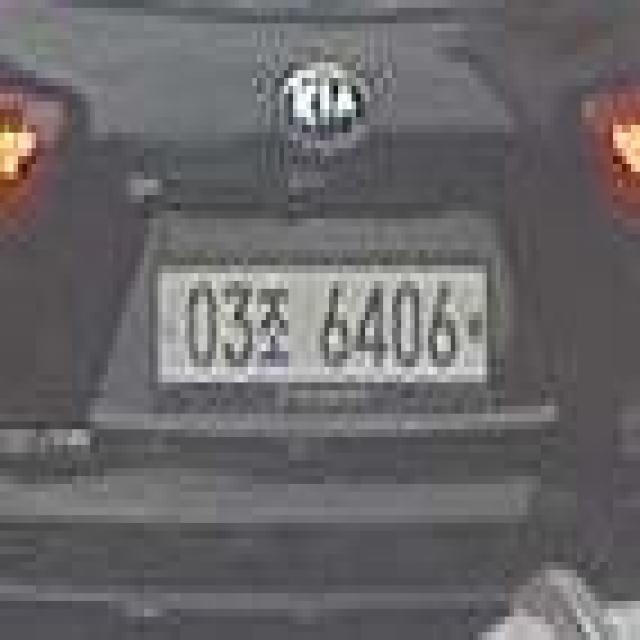illegal_plate: (150, 253, 497, 411)
